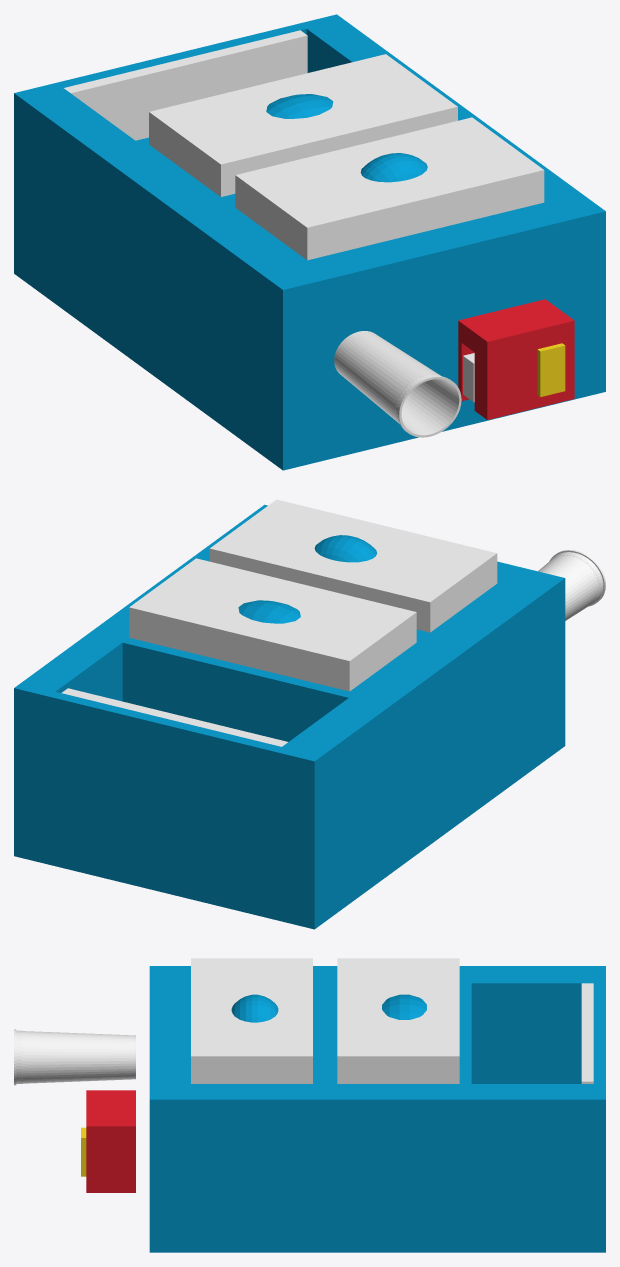
File: tinker.obj
The picture shows the model from 3 angles, top to bottom: view 1: azimuth 30°, elevation 25°; view 2: azimuth 150°, elevation 25°; view 3: azimuth 270°, elevation 25°; orthographic projection. The views are drawn at different scales.
Parts seen in each view (by area): view 1: group_0_40919, group_0_16448250, group_0_15277357, group_0_16768282; view 2: group_0_40919, group_0_16448250; view 3: group_0_40919, group_0_16448250, group_0_15277357.
Boxes of the visible parts, box(x1,y1,x2,y2) form: group_0_40919: box(14, 14, 605, 470); group_0_16448250: box(64, 30, 544, 437); group_0_15277357: box(458, 299, 574, 419); group_0_16768282: box(537, 343, 565, 396); group_0_40919: box(14, 504, 565, 929); group_0_16448250: box(61, 499, 605, 746); group_0_40919: box(149, 966, 605, 1252); group_0_16448250: box(14, 958, 593, 1085); group_0_15277357: box(86, 1090, 135, 1192).
Bounding box in the file's own units: 51.8 × 34.67 × 97.
